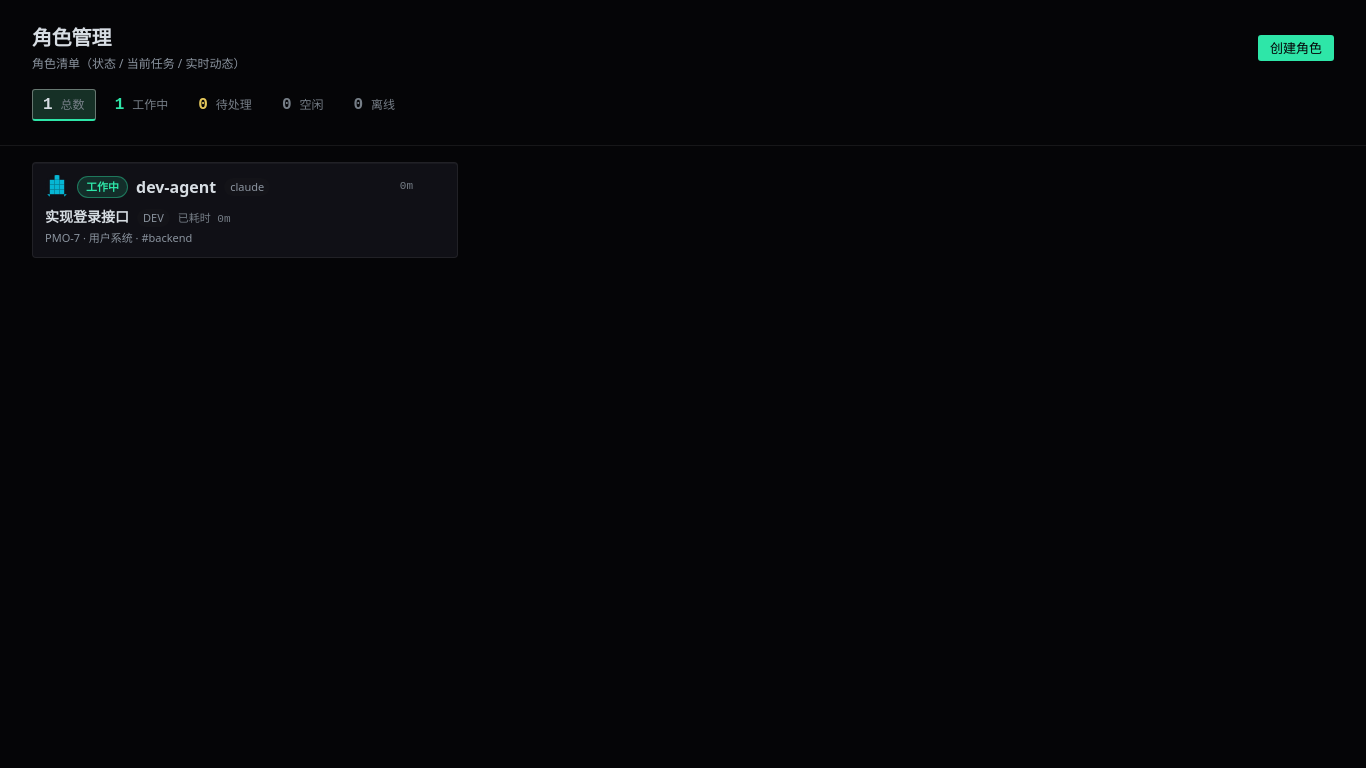
Scenario: AgentDashboardPage › §6.4 创建角色弹框化 + #630 决策 2 单角色收窄：命名 + 选 provider → 创建 → 关弹框就地刷新名册，不跳页
This screenshot has width=1366, height=768.
Expected: the button "实现登录接口" is shown, [45,207,129,227]
Click the button "创建角色": (1296, 48) [1258,35,1334,62]
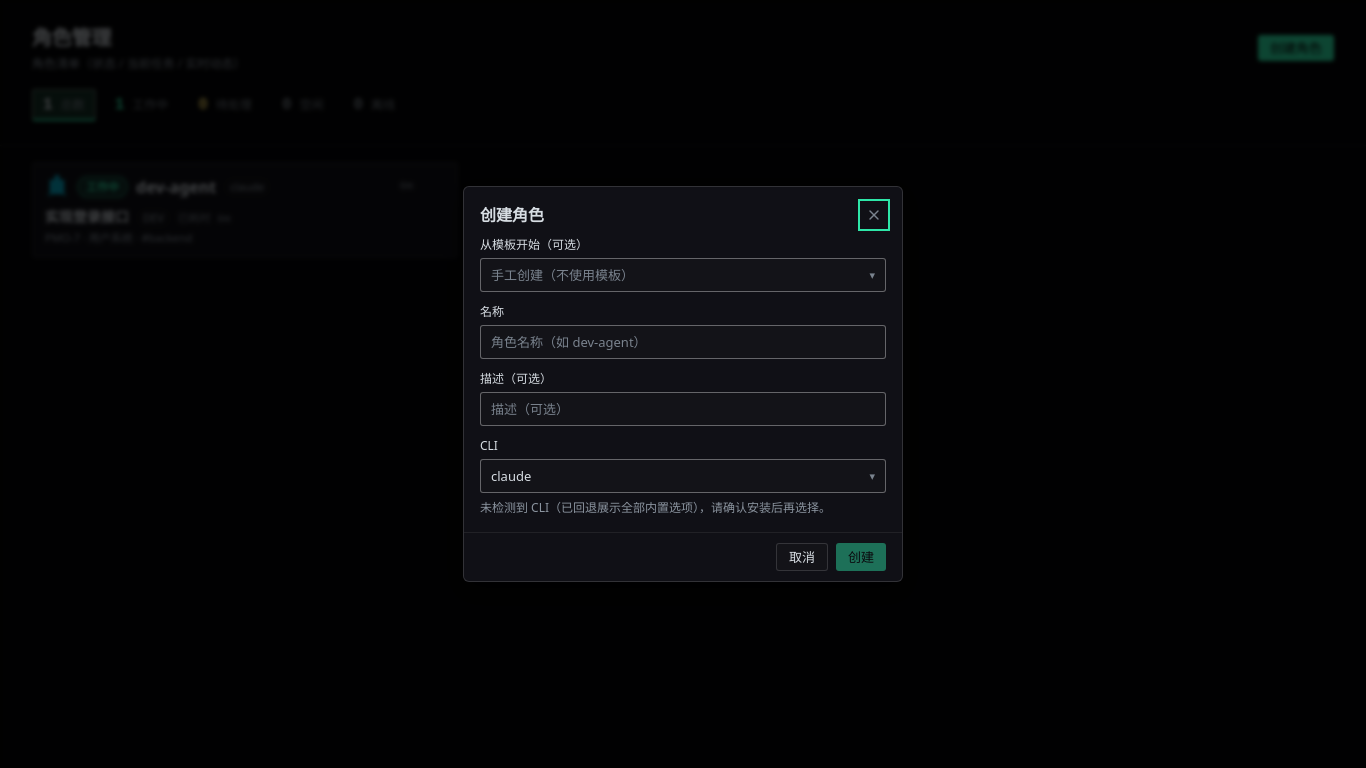
Expected: the button with test id "role-form-provider" shows "claude", [480,459,886,493]
Expected: the button with test id "create-role-submit" is disabled, [836,543,886,571]
In the field with test id "role-form-name": (683, 342) [480,325,886,359], type "qa-agent"
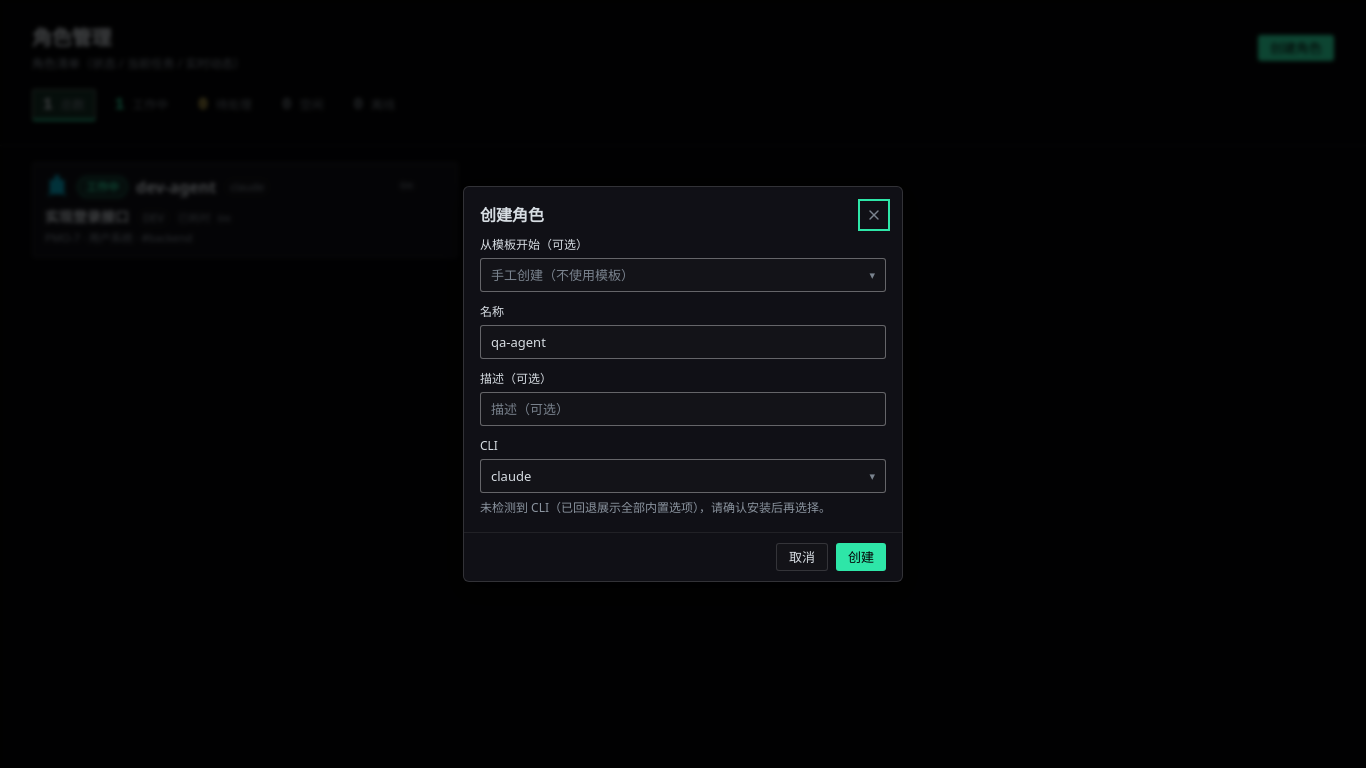
Click the button with test id "create-role-submit": (861, 557) [836,543,886,571]
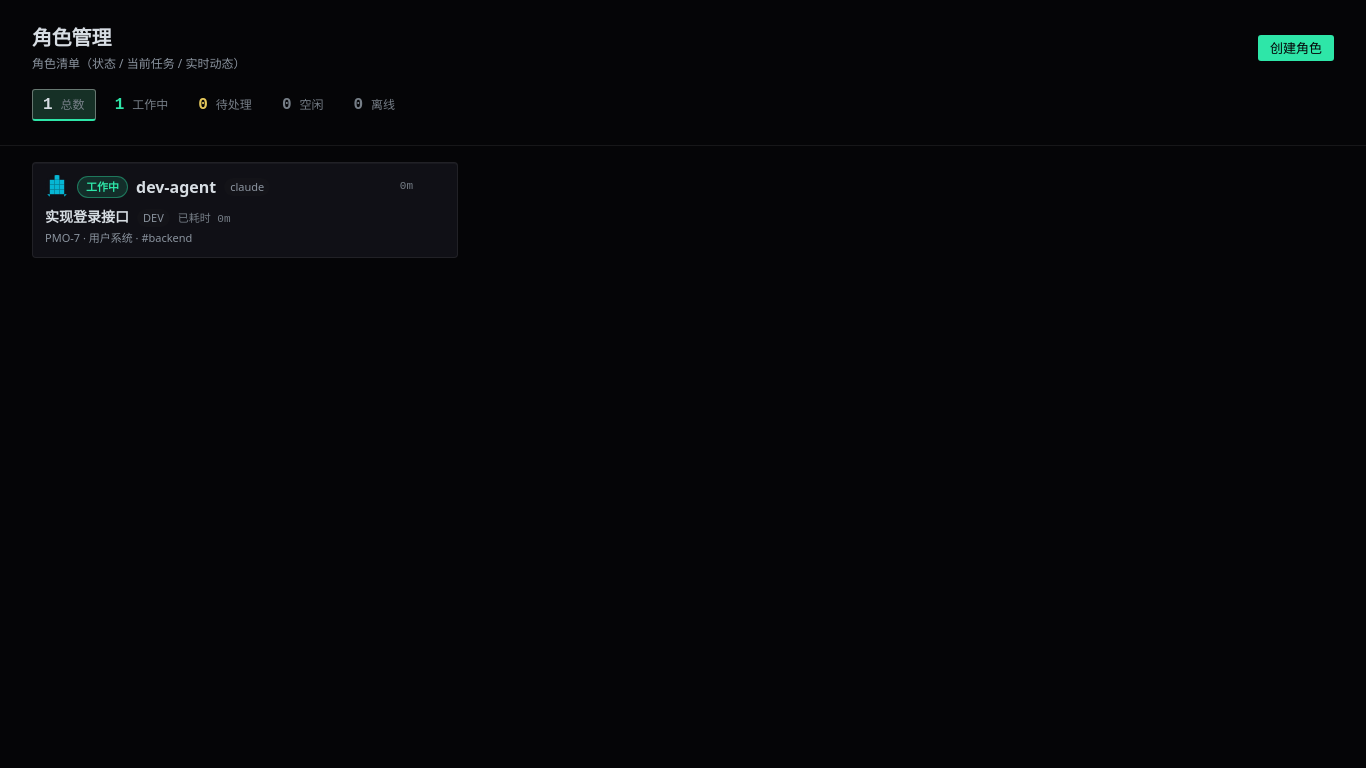
Expected: the button with test id "create-role-submit" is gone
